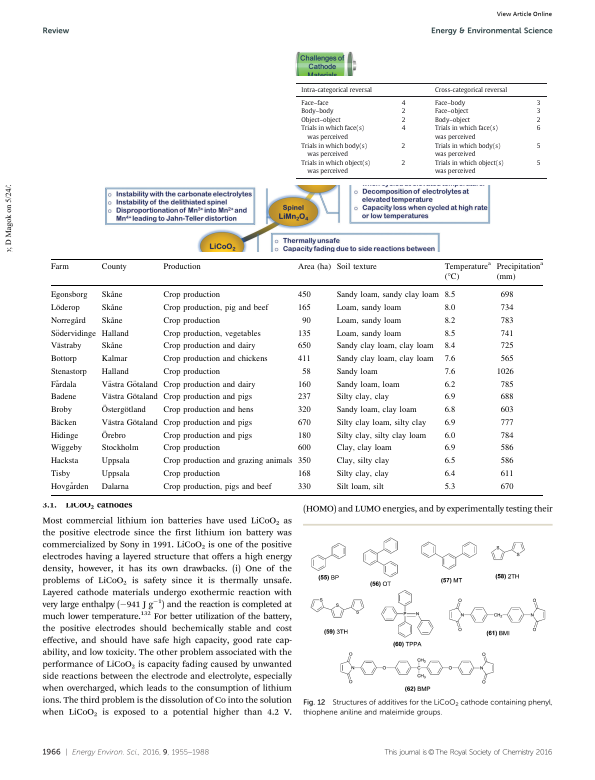borderless: (50, 257, 543, 495), (295, 81, 547, 178)
cell: (162, 456, 293, 466), (300, 159, 371, 176), (434, 159, 505, 176), (300, 141, 368, 158), (434, 141, 502, 158), (300, 124, 365, 141), (434, 124, 499, 141), (162, 482, 272, 492), (443, 260, 492, 282), (495, 260, 544, 282), (162, 303, 269, 313), (162, 354, 268, 364), (335, 291, 440, 301), (162, 329, 261, 339), (335, 342, 434, 352), (335, 354, 434, 364), (162, 342, 256, 352), (162, 380, 256, 390), (162, 405, 254, 415), (335, 418, 427, 428), (335, 431, 427, 441), (162, 393, 253, 403), (162, 418, 253, 428), (162, 431, 253, 441), (335, 405, 417, 415), (335, 303, 402, 313), (335, 316, 402, 326), (335, 329, 402, 339), (335, 380, 400, 390), (434, 86, 508, 94), (162, 291, 221, 301), (162, 316, 221, 326), (162, 367, 221, 377), (162, 444, 221, 454), (162, 469, 221, 479), (300, 86, 373, 94), (100, 380, 158, 390), (100, 393, 158, 403), (100, 418, 158, 428), (335, 444, 392, 454), (335, 456, 390, 466), (335, 393, 389, 403), (335, 469, 389, 479), (100, 404, 146, 415), (335, 482, 384, 492), (50, 329, 97, 339), (335, 367, 378, 377), (335, 262, 377, 272), (162, 262, 201, 272), (100, 444, 139, 454), (50, 482, 89, 492), (50, 291, 88, 301), (50, 367, 87, 377), (50, 316, 86, 326), (297, 262, 332, 272), (300, 116, 342, 124), (50, 444, 83, 454), (50, 342, 82, 352), (300, 107, 335, 116), (434, 107, 469, 116), (100, 429, 126, 441), (50, 303, 80, 313), (100, 456, 130, 466), (100, 469, 130, 479), (434, 116, 471, 124), (100, 329, 129, 339), (100, 367, 129, 377), (50, 431, 79, 441), (50, 456, 79, 466), (100, 482, 129, 492), (100, 354, 128, 364), (100, 262, 127, 272), (50, 354, 77, 364), (50, 380, 77, 390), (50, 393, 77, 403), (50, 418, 77, 428), (434, 99, 466, 107), (100, 290, 123, 301), (100, 341, 123, 352), (300, 99, 330, 107), (100, 303, 123, 313), (100, 316, 123, 326), (50, 405, 73, 415), (50, 469, 71, 479), (49, 262, 69, 272), (495, 367, 514, 377), (499, 291, 514, 301), (499, 303, 514, 313), (499, 316, 514, 326), (499, 329, 514, 339), (499, 342, 514, 352), (499, 354, 514, 364), (499, 380, 514, 390), (499, 393, 514, 403), (499, 405, 514, 415), (499, 418, 514, 428), (499, 431, 514, 441), (499, 444, 514, 454), (499, 456, 514, 466), (499, 469, 514, 479), (499, 482, 514, 492), (297, 291, 311, 301), (297, 303, 311, 313), (297, 329, 311, 339), (297, 342, 311, 352), (297, 354, 311, 364), (297, 380, 311, 390), (297, 393, 311, 403), (297, 405, 311, 415), (297, 418, 311, 428), (297, 431, 311, 441), (297, 444, 311, 454), (297, 456, 311, 466), (297, 469, 311, 479), (297, 482, 311, 492), (443, 291, 456, 301), (443, 303, 456, 313), (443, 316, 456, 326), (443, 329, 456, 339), (443, 342, 456, 352), (443, 354, 456, 364), (443, 367, 456, 377), (443, 380, 456, 390), (443, 393, 456, 403), (443, 405, 456, 415), (443, 418, 456, 428), (443, 431, 456, 441), (443, 444, 456, 454), (443, 456, 456, 466), (443, 469, 456, 479), (443, 482, 456, 492), (301, 316, 311, 326), (301, 367, 311, 377), (536, 107, 542, 116), (536, 124, 542, 133), (536, 141, 542, 150), (536, 99, 542, 107), (536, 116, 542, 124), (536, 159, 542, 167), (401, 107, 406, 116), (401, 124, 406, 133), (401, 141, 406, 150), (401, 99, 406, 107), (401, 116, 406, 124), (401, 159, 406, 167)
